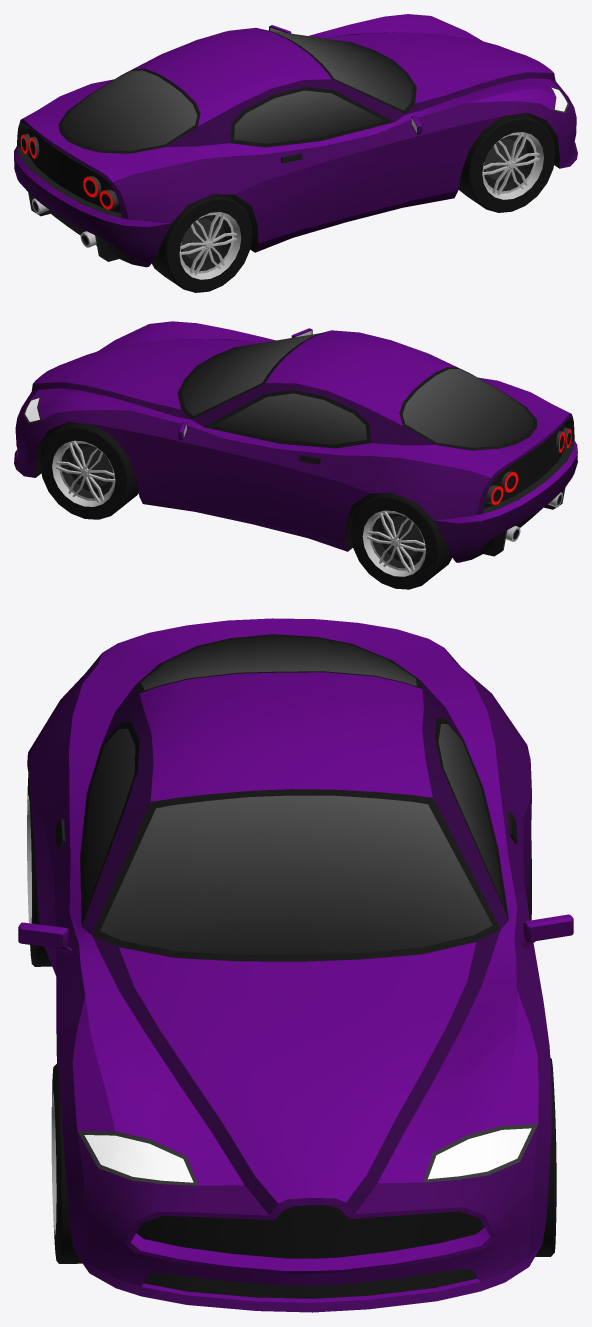
The model's file is Car_247.glb.
3 renders of one model, top to bottom at view 1: azimuth 30°, elevation 25°; view 2: azimuth 150°, elevation 25°; view 3: azimuth 270°, elevation 25°, orthographic. The views are drawn at different scales.
Parts seen in each view (by area): view 1: Car_247, wheel_0_Car_247_Wheel_1R, wheel_2_Car_247_Wheel_3R; view 2: Car_247, wheel_1_Car_247_Wheel_2L, wheel_3_Car_247_Wheel_4L; view 3: Car_247, wheel_0_Car_247_Wheel_1R, wheel_2_Car_247_Wheel_3R, wheel_1_Car_247_Wheel_2L.
Boxes of the visible parts, x1,y1,x2,y2 form: Car_247: [14, 14, 577, 267]; wheel_0_Car_247_Wheel_1R: [458, 113, 555, 212]; wheel_2_Car_247_Wheel_3R: [152, 194, 252, 292]; Car_247: [14, 321, 577, 562]; wheel_1_Car_247_Wheel_2L: [40, 422, 138, 519]; wheel_3_Car_247_Wheel_4L: [350, 492, 451, 589]; Car_247: [18, 618, 573, 1312]; wheel_0_Car_247_Wheel_1R: [51, 1063, 82, 1263]; wheel_2_Car_247_Wheel_3R: [27, 770, 51, 966]; wheel_1_Car_247_Wheel_2L: [535, 1058, 556, 1256].
Size of the model in its own units: 3.97 by 1.24 by 1.89.
Materials: 3 (3 with a texture image).
